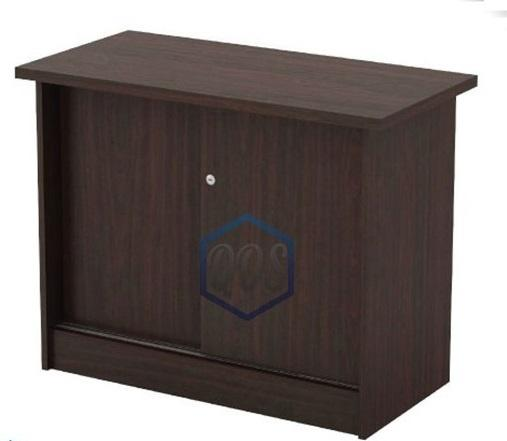cabinet_door: (203, 121, 360, 375), (57, 90, 203, 335)
handle: (205, 170, 219, 191)
